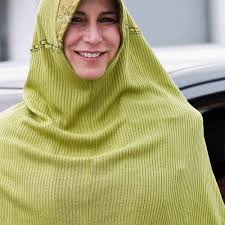middle_eastern_Female: (61, 1, 126, 76)
